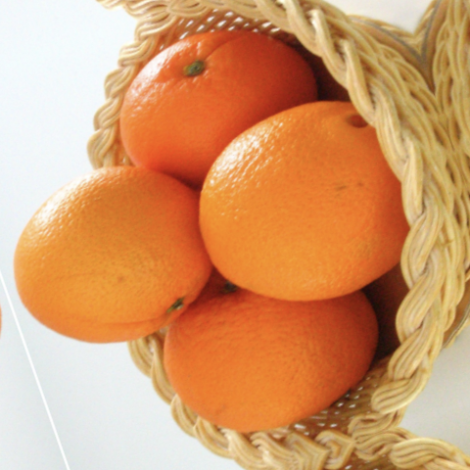orange: (145, 59, 460, 346), (136, 231, 402, 470), (0, 146, 225, 386), (83, 0, 311, 218)
